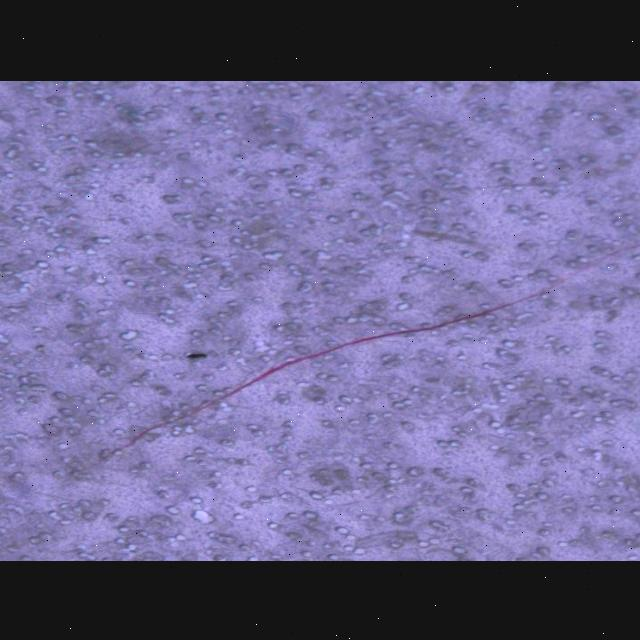Fibre: (64, 258, 586, 484)
